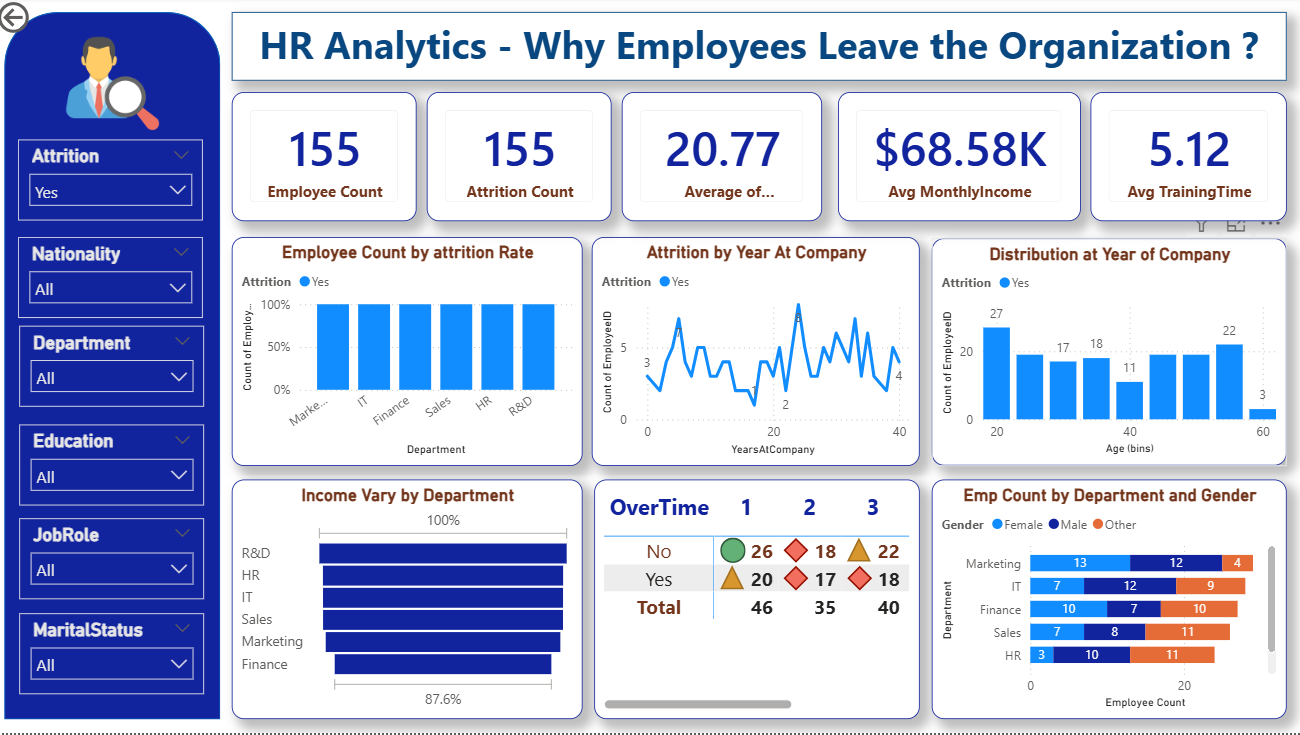

This screenshot's page, from the dashboard's own definition file:
{"tool":"powerbi","page":{"name":"Page1","canvas":[1280,720],"ordinal":0},"visuals":[{"type":"slicer","fields":{"Values":["hr_employee_data_with_nationality.Attrition"]},"box":[24.7,140,181.1,79.6],"z":0},{"type":"textbox","box":[10,0,280,280],"z":1000},{"type":"textbox","box":[233.6,14.7,1032.1,67.3],"z":2000},{"type":"shape","box":[11,14.7,211.6,692.1],"z":3000},{"type":"image","box":[67.3,29.3,99,110.1],"z":4000},{"type":"cardVisual","fields":{"Data":["CountNonNull(hr_employee_data_with_nationality.EmployeeID)"]},"box":[233.3,93.3,181.1,126.2],"z":5000},{"type":"hundredPercentStackedColumnChart","title":"Employee Count by attrition Rate","fields":{"Category":["hr_employee_data_with_nationality.Department"],"Y":["CountNonNull(hr_employee_data_with_nationality.EmployeeID)"],"Series":["hr_employee_data_with_nationality.Attrition"]},"box":[233.3,234.6,343.1,223.7],"z":6000},{"type":"lineChart","title":"Attrition by Year At Company","fields":{"Category":["hr_employee_data_with_nationality.YearsAtCompany"],"Y":["CountNonNull(hr_employee_data_with_nationality.EmployeeID)"],"Series":["hr_employee_data_with_nationality.Attrition"]},"box":[585.9,234.6,321.1,223.7],"z":7000},{"type":"columnChart","title":"Distribution at Year of Company","fields":{"Y":["CountNonNull(hr_employee_data_with_nationality.EmployeeID)"],"Series":["hr_employee_data_with_nationality.Attrition"],"Category":["hr_employee_data_with_nationality.Age (bins)"]},"box":[918,236,347.2,222.3],"z":8000},{"type":"funnel","title":"Income Vary by Department","fields":{"Category":["hr_employee_data_with_nationality.Department"],"Y":["Avg(hr_employee_data_with_nationality.MonthlyIncome)"]},"box":[233.3,472,343.1,234.6],"z":9000},{"type":"pivotTable","title":"Employee Count by attrition Rate","fields":{"Rows":["hr_employee_data_with_nationality.OverTime"],"Values":["CountNonNull(hr_employee_data_with_nationality.EmployeeID)"],"Columns":["hr_employee_data_with_nationality.WorkLifeBalance"]},"box":[588.7,472,318.4,234.6],"z":10000},{"type":"barChart","title":"Emp Count by Department and Gender","fields":{"Category":["hr_employee_data_with_nationality.Department"],"Y":["CountNonNull(hr_employee_data_with_nationality.EmployeeID)"],"Series":["hr_employee_data_with_nationality.Gender"]},"box":[918,472,347.2,234.6],"z":11000},{"type":"cardVisual","fields":{"Data":["CountNonNull(hr_employee_data_with_nationality.Attrition)"]},"box":[424,93.3,181.1,126.2],"z":12000},{"type":"cardVisual","fields":{"Data":["Avg(hr_employee_data_with_nationality.YearsAtCompany)"]},"box":[614.8,93.3,196.2,126.2],"z":13000},{"type":"cardVisual","fields":{"Data":["Avg(hr_employee_data_with_nationality.MonthlyIncome)"]},"box":[826.1,93.3,237.4,126.2],"z":14000},{"type":"cardVisual","fields":{"Data":["Avg(hr_employee_data_with_nationality.TrainingTimesLastYear)"]},"box":[1073.1,93.3,192.1,126.2],"z":15000},{"type":"slicer","fields":{"Values":["hr_employee_data_with_nationality.Attrition"]},"box":[24.7,140,181.1,79.6],"z":16000},{"type":"slicer","fields":{"Values":["hr_employee_data_with_nationality.Nationality"]},"box":[24.7,234.6,181.1,79.6],"z":17000},{"type":"slicer","fields":{"Values":["hr_employee_data_with_nationality.Department"]},"box":[26.1,321.1,181.1,79.6],"z":18000},{"type":"actionButton","box":[0,0,100,40],"z":19000},{"type":"slicer","fields":{"Values":["hr_employee_data_with_nationality.Education"]},"box":[26.1,418.5,181.1,79.6],"z":20000},{"type":"slicer","fields":{"Values":["hr_employee_data_with_nationality.JobRole"]},"box":[26.1,510.5,181.1,79.6],"z":21000},{"type":"slicer","fields":{"Values":["hr_employee_data_with_nationality.MaritalStatus"]},"box":[26.1,602.4,181.1,79.6],"z":22000}]}

Visuals, with their boxes in screenshot pixels (x1, y1, x2, y2), scaled from the page's 1280x720 canvas onto the 1300x735 screenshot:
slicer - hr_employee_data_with_nationality.Attrition: 25/143/209/224
textbox: 10/0/295/286
textbox: 237/15/1285/84
shape: 11/15/226/722
image: 68/30/169/142
cardVisual - CountNonNull(hr_employee_data_with_nationality.EmployeeID): 237/95/421/224
"Employee Count by attrition Rate" hundredPercentStackedColumnChart: 237/239/585/468
"Attrition by Year At Company" lineChart: 595/239/921/468
"Distribution at Year of Company" columnChart: 932/241/1285/468
"Income Vary by Department" funnel: 237/482/585/721
"Employee Count by attrition Rate" pivotTable: 598/482/921/721
"Emp Count by Department and Gender" barChart: 932/482/1285/721
cardVisual - CountNonNull(hr_employee_data_with_nationality.Attrition): 431/95/615/224
cardVisual - Avg(hr_employee_data_with_nationality.YearsAtCompany): 624/95/824/224
cardVisual - Avg(hr_employee_data_with_nationality.MonthlyIncome): 839/95/1080/224
cardVisual - Avg(hr_employee_data_with_nationality.TrainingTimesLastYear): 1090/95/1285/224
slicer - hr_employee_data_with_nationality.Attrition: 25/143/209/224
slicer - hr_employee_data_with_nationality.Nationality: 25/239/209/321
slicer - hr_employee_data_with_nationality.Department: 27/328/210/409
actionButton: 0/0/102/41
slicer - hr_employee_data_with_nationality.Education: 27/427/210/508
slicer - hr_employee_data_with_nationality.JobRole: 27/521/210/602
slicer - hr_employee_data_with_nationality.MaritalStatus: 27/615/210/696
